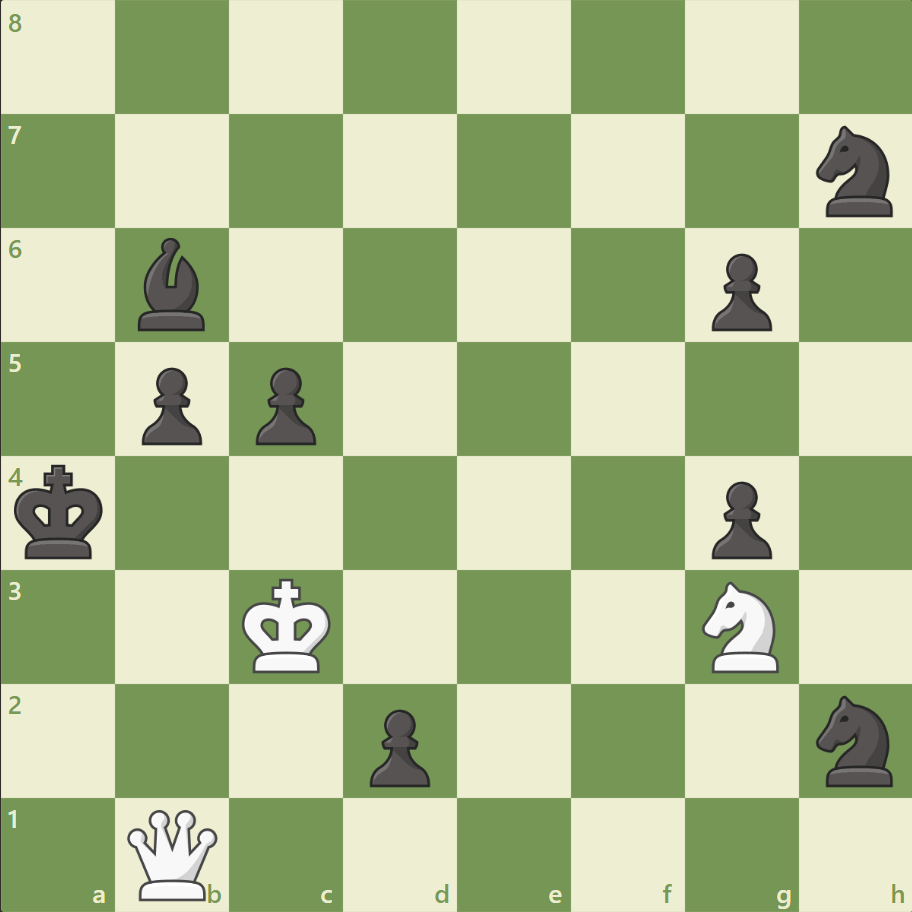K: (238, 571, 338, 679)
N: (692, 575, 789, 677)
Q: (124, 804, 223, 903)
b: (131, 233, 215, 336)
k: (11, 458, 111, 566)
n: (806, 688, 903, 791), (806, 121, 903, 223)
p: (701, 246, 776, 337), (133, 359, 208, 450), (247, 359, 322, 450), (701, 473, 776, 564), (361, 700, 435, 791)
